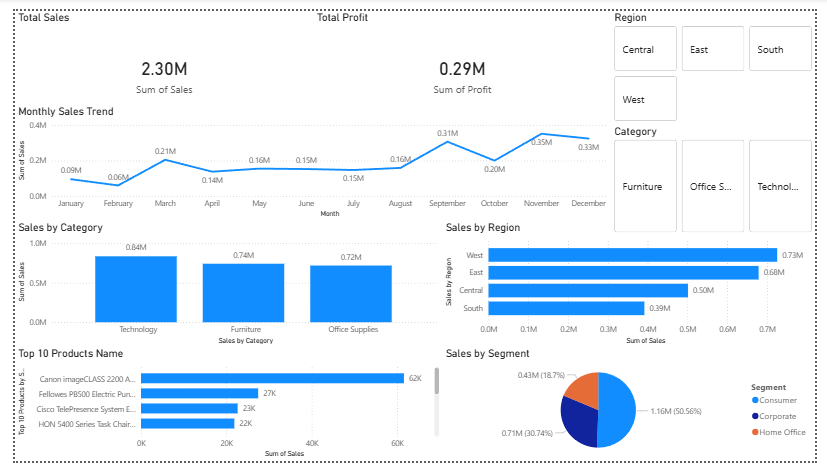

The dashboard page shown, as its layout file describes it:
{"tool":"powerbi","page":{"name":"Page 1","canvas":[1280,720],"ordinal":0},"visuals":[{"type":"card","title":"Total Sales","fields":{"Values":["Sum(Orders.Sales)"]},"box":[0,0,478,182],"z":0},{"type":"card","title":"Total Profit","fields":{"Values":["Sum(Orders.Profit)"]},"box":[478,0,476,182],"z":1000},{"type":"lineChart","title":"Monthly Sales Trend","fields":{"Y":["Sum(Orders.Sales)"],"Category":["Orders.Order Date.Variation.Date Hierarchy.Month"]},"box":[0,150,954,186],"z":2000},{"type":"clusteredColumnChart","title":"Sales by Category","fields":{"Category":["Orders.Category"],"Y":["Sum(Orders.Sales)"]},"box":[0,336,684,202],"z":3000},{"type":"clusteredBarChart","title":" Sales by Region","fields":{"Y":["Sum(Orders.Sales)"],"Category":["Orders.Region"]},"box":[684,336,596,202],"z":4000},{"type":"clusteredBarChart","title":"Top 10 Products Name","fields":{"Category":["Orders.Product Name"],"Y":["Sum(Orders.Sales)"]},"box":[0,538,684,182],"z":4001},{"type":"pieChart","title":"Sales by Segment","fields":{"Category":["Orders.Segment"],"Y":["Sum(Orders.Sales)"]},"box":[684,538,596,182],"z":4002},{"type":"advancedSlicerVisual","fields":{"Values":["Orders.Region"]},"box":[954,0,326,182],"z":4003},{"type":"advancedSlicerVisual","fields":{"Values":["Orders.Category"]},"box":[954,182,326,178],"z":4004}]}

Visuals, with their boxes in screenshot pixels (x1, y1, x2, y2), scaled from the page's 1280x720 canvas onto the 827x468 screenshot:
"Total Sales" card: pyautogui.locateOnScreen(0, 0, 309, 118)
"Total Profit" card: pyautogui.locateOnScreen(309, 0, 616, 118)
"Monthly Sales Trend" lineChart: pyautogui.locateOnScreen(0, 98, 616, 218)
"Sales by Category" clusteredColumnChart: pyautogui.locateOnScreen(0, 218, 442, 350)
" Sales by Region" clusteredBarChart: pyautogui.locateOnScreen(442, 218, 826, 350)
"Top 10 Products Name" clusteredBarChart: pyautogui.locateOnScreen(0, 350, 442, 467)
"Sales by Segment" pieChart: pyautogui.locateOnScreen(442, 350, 826, 467)
advancedSlicerVisual - Orders.Region: pyautogui.locateOnScreen(616, 0, 826, 118)
advancedSlicerVisual - Orders.Category: pyautogui.locateOnScreen(616, 118, 826, 234)
